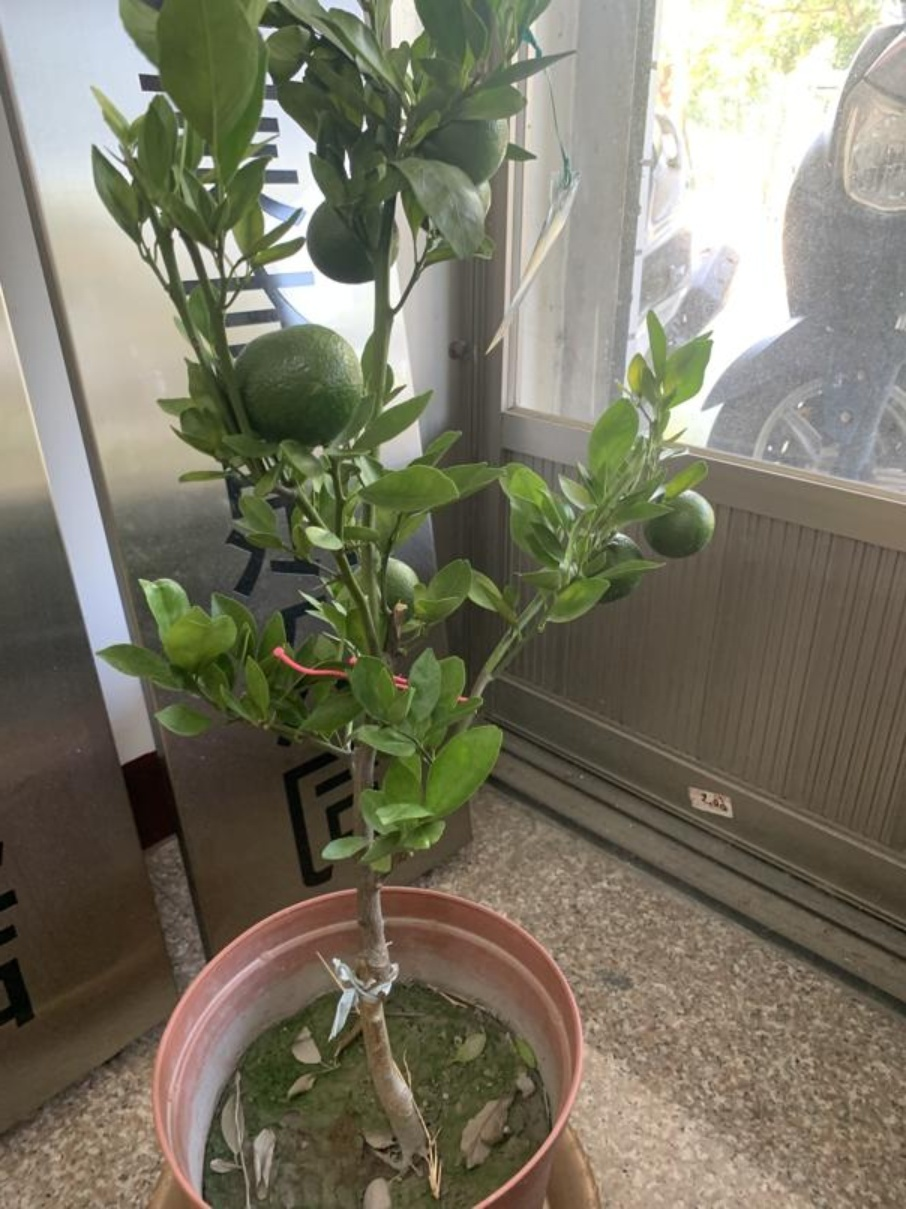Tangerine: (231, 319, 363, 448), (304, 192, 401, 287), (648, 488, 716, 560)
